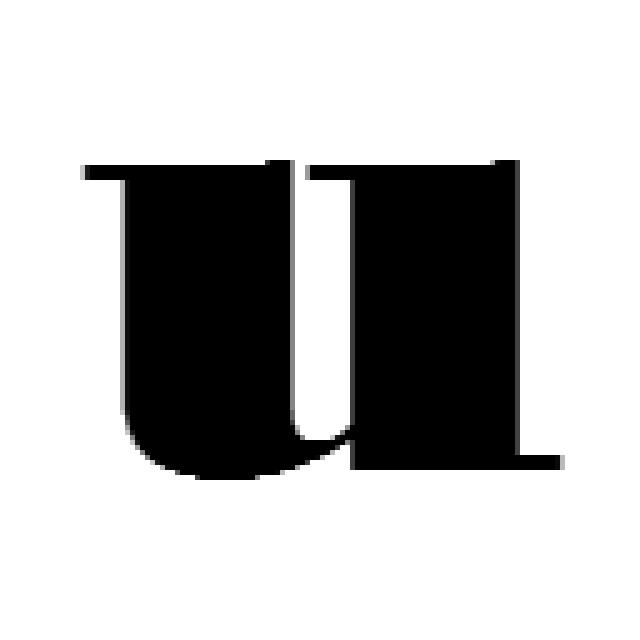U: (87, 163, 570, 474)
